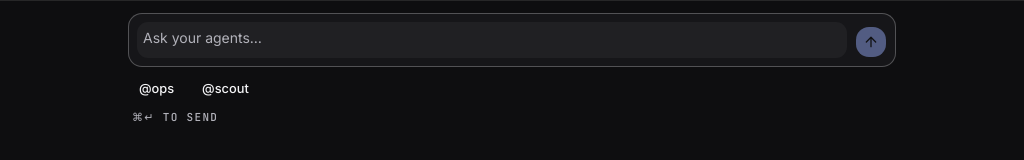
Composer — addressing an agent by @handle › names the agent it will ask once a leading handle resolves
Step 1. Type "@ops what is late?" into the text box → coordinates (492, 40), box [137,22,847,58]
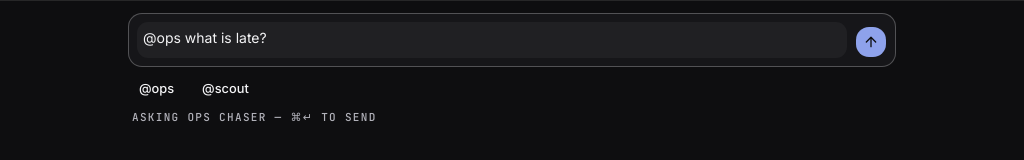
Result: the text "Asking Ops Chaser — ⌘↵ to send" is shown at [132,110,377,124]
